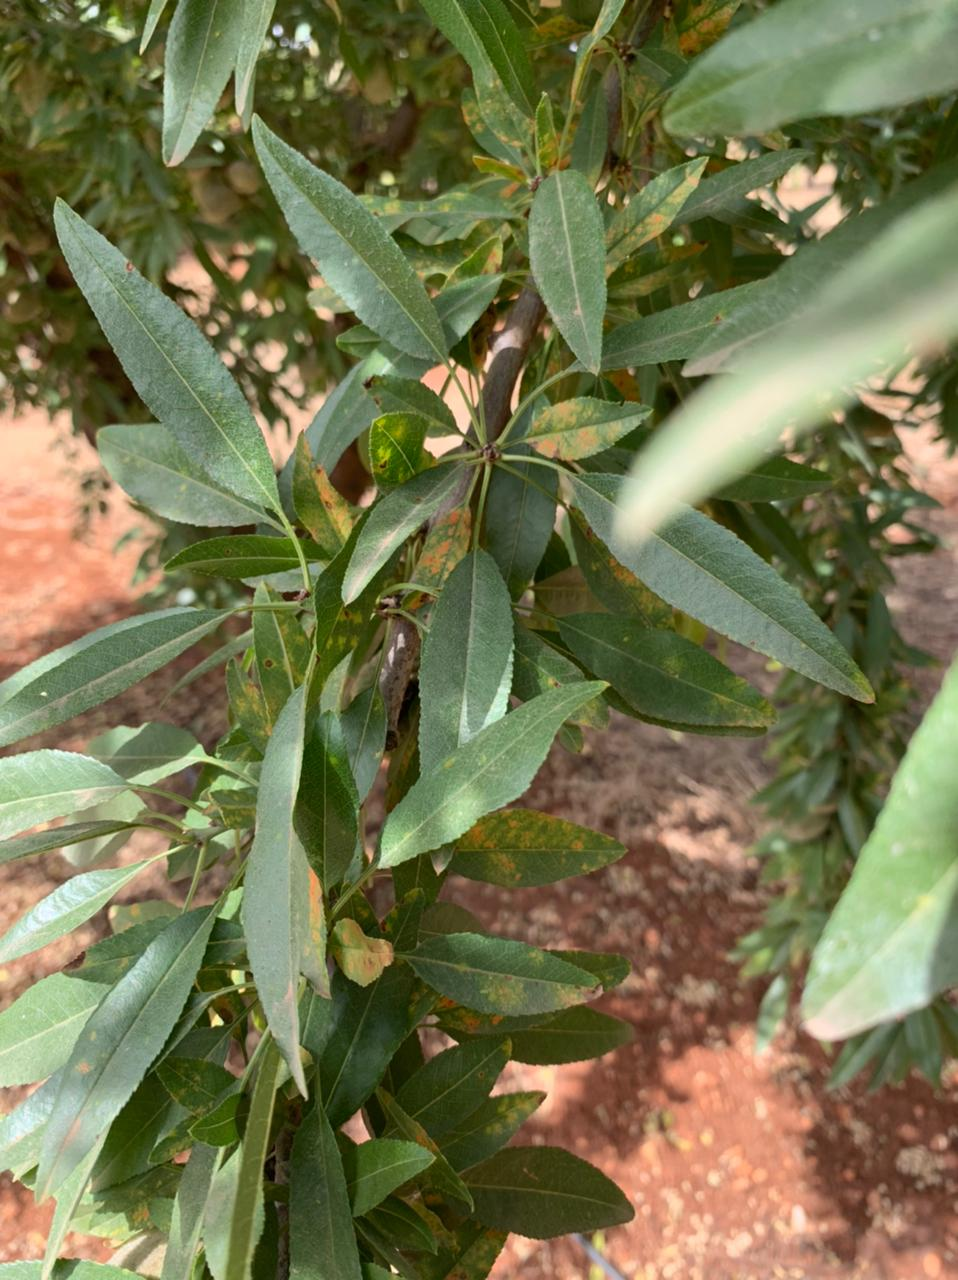polystigma: (400, 933, 608, 1019), (445, 806, 633, 890), (600, 153, 712, 261), (521, 395, 658, 463), (290, 427, 356, 554), (406, 498, 468, 594), (529, 85, 570, 173)
